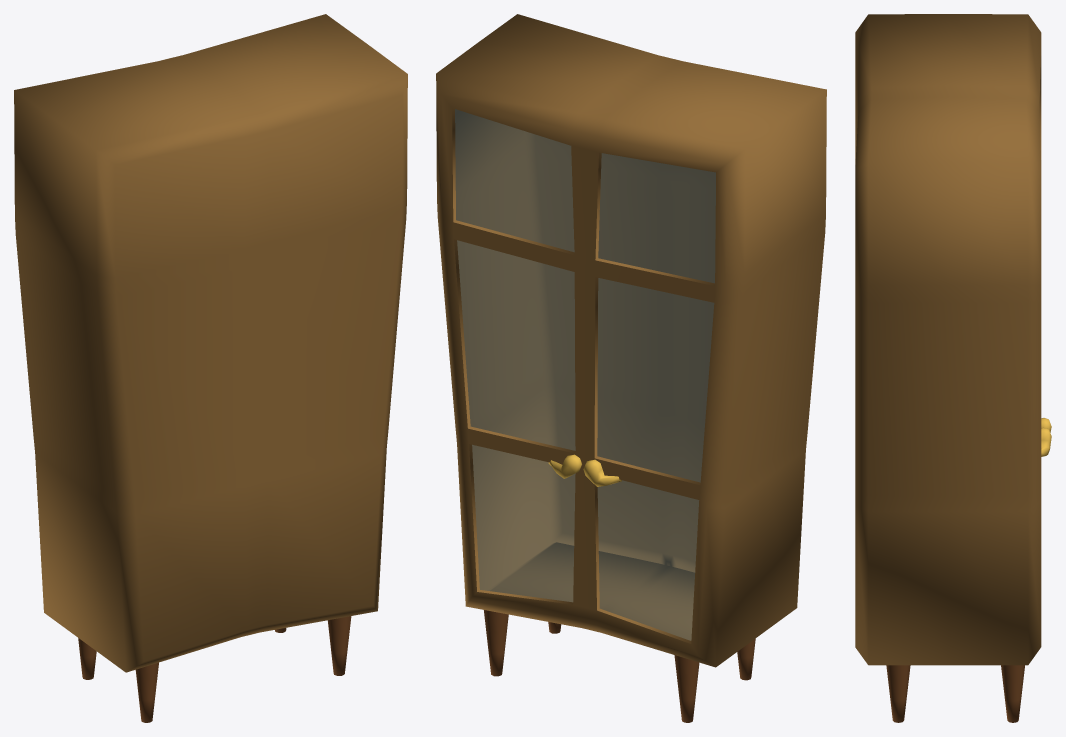
File: grande_armoire_vertical.fbx
3 renders of one model, left to right at view 1: azimuth 30°, elevation 25°; view 2: azimuth 150°, elevation 25°; view 3: azimuth 270°, elevation 25°, orthographic. The views are drawn at different scales.
Visible parts, largest first — view 1: Cube.005; view 2: Cube.005; view 3: Cube.005.
Boxes of the visible parts, x1=… form: Cube.005: x1=14, y1=14, x2=407, y2=722; Cube.005: x1=436, y1=14, x2=826, y2=722; Cube.005: x1=855, y1=14, x2=1051, y2=722.
Size of the model in its own units: 2.76 by 1.55 by 5.06.
